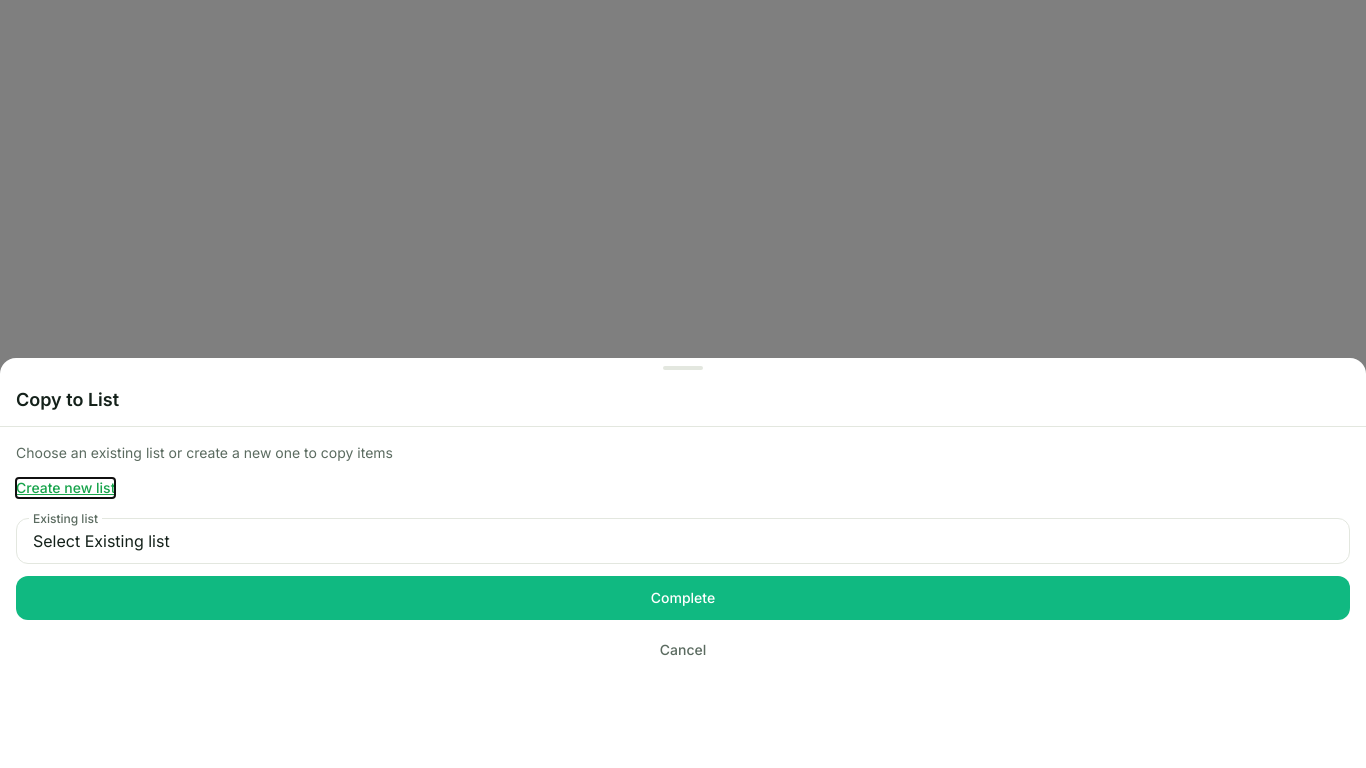
it: ChangeOtherListModal › switches between new list and existing list forms
Expected: the dropdown labelled "Existing list" is shown, x1=17 y1=519 x2=1349 y2=563
Expected: the field labelled "New list name" is not shown
Note: Switch to new list form
Click the button "Create new list" at coordinates (66, 488), box x1=16 y1=478 x2=115 y2=498
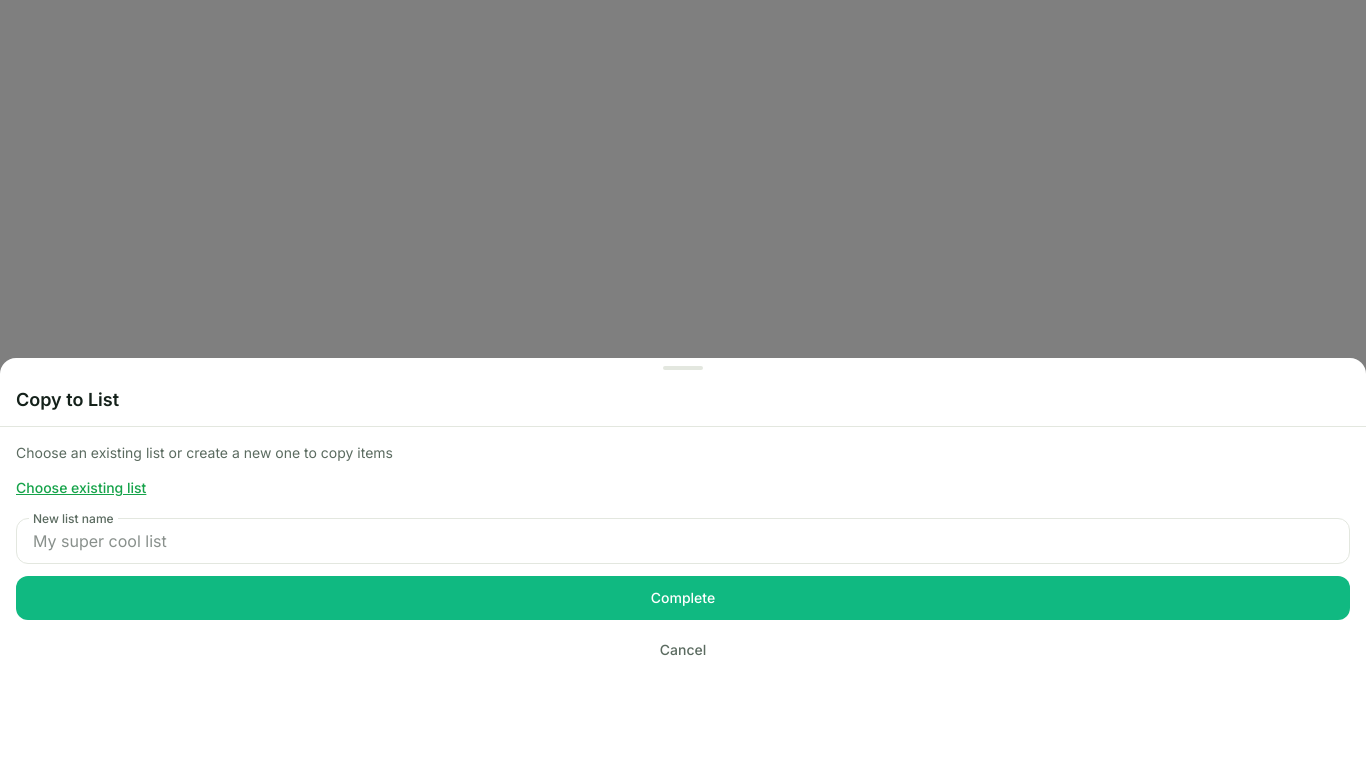
Expected: the field labelled "New list name" is shown, x1=17 y1=519 x2=1349 y2=563
Note: Switch back to existing list form
Click the button "Choose existing list" at coordinates (81, 488), box x1=16 y1=478 x2=146 y2=498
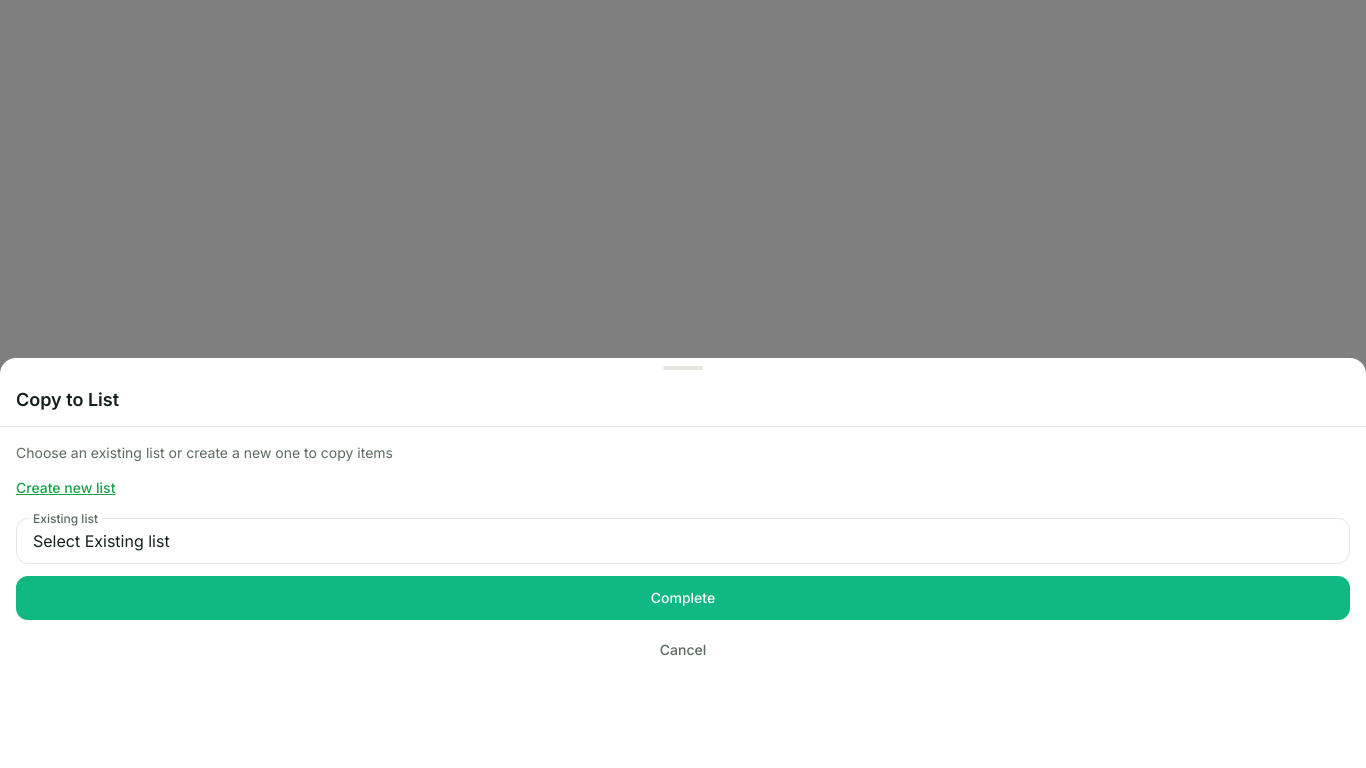
Expected: the dropdown labelled "Existing list" is shown, x1=17 y1=519 x2=1349 y2=563
Expected: the label labelled "New list name" is gone
